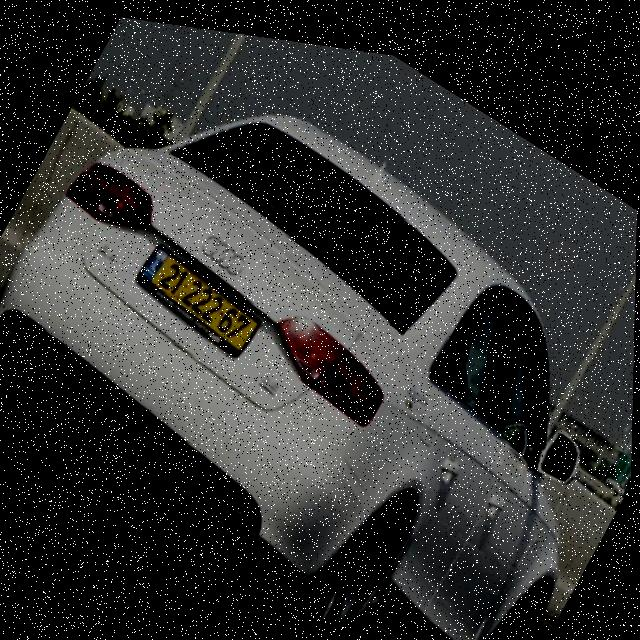license_plate: (129, 232, 270, 356)
